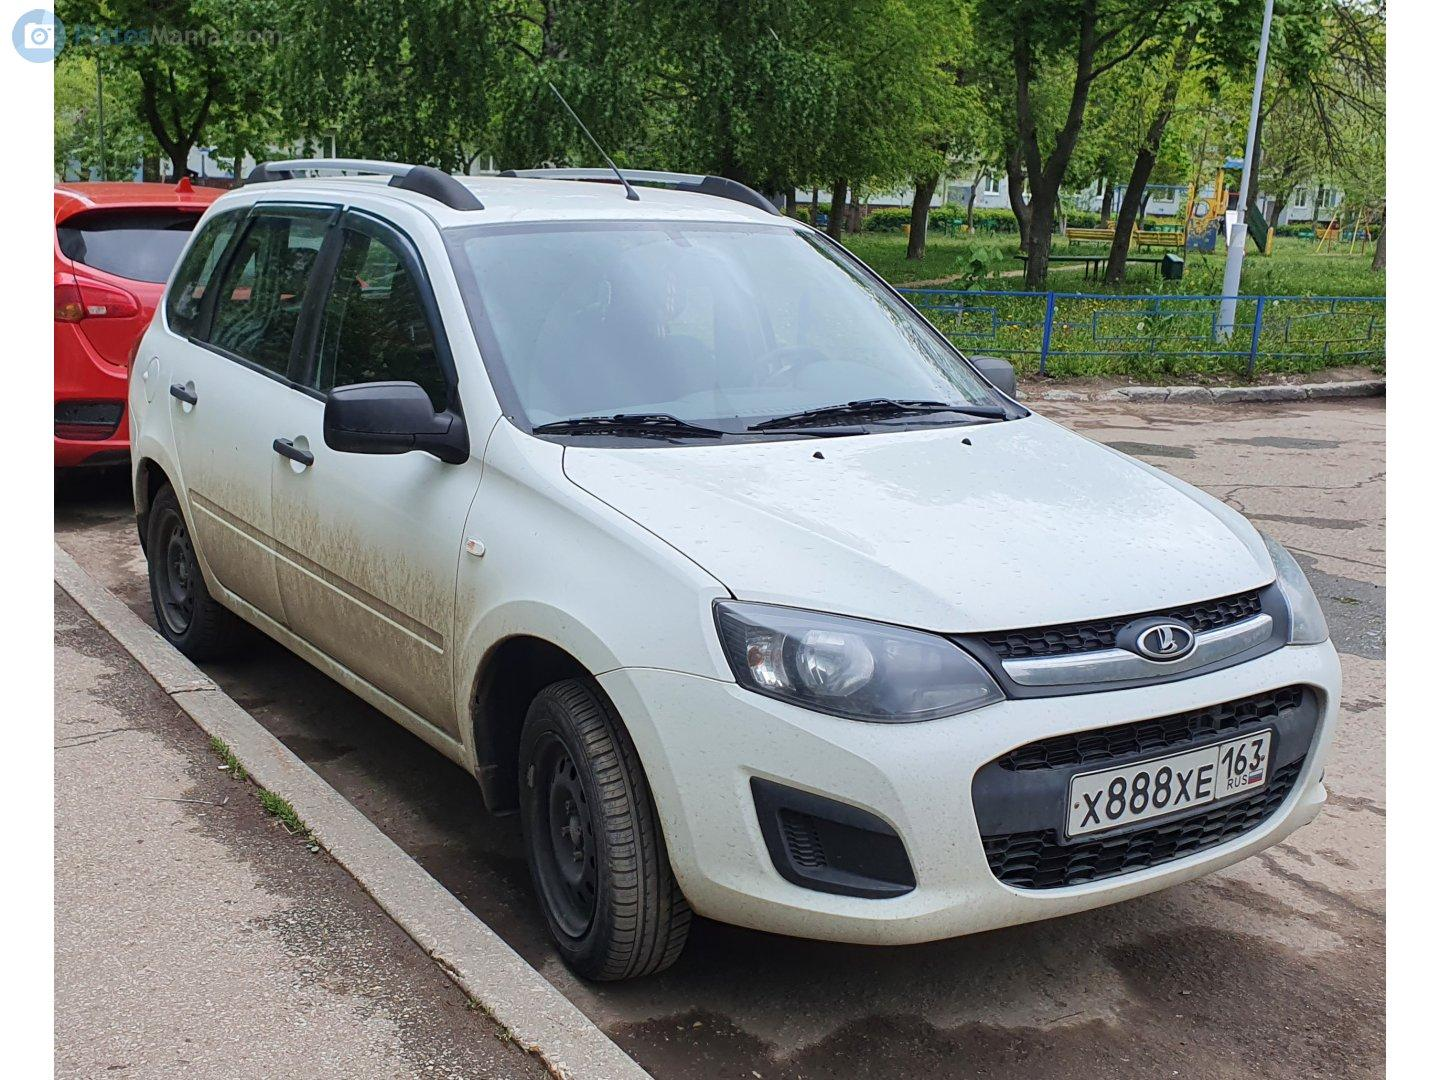license-plateSW: (1067, 735, 1276, 842)
